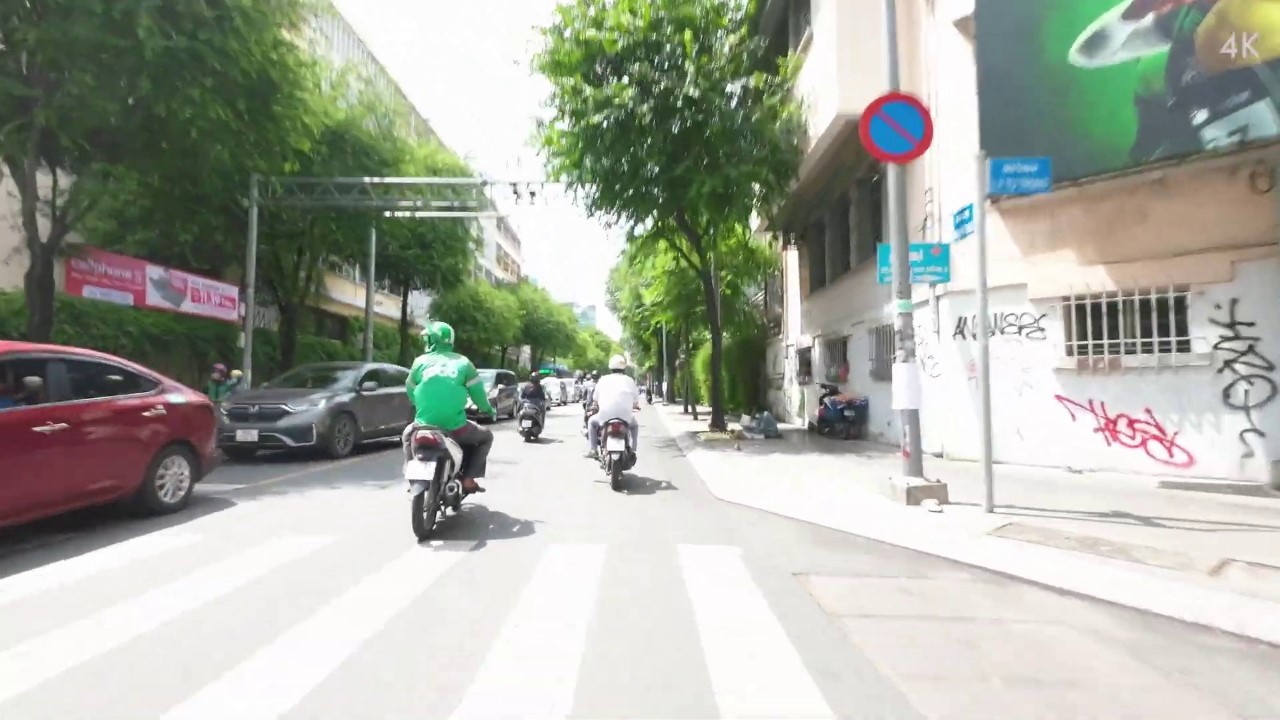cam_do_xe: (857, 91, 935, 164)
